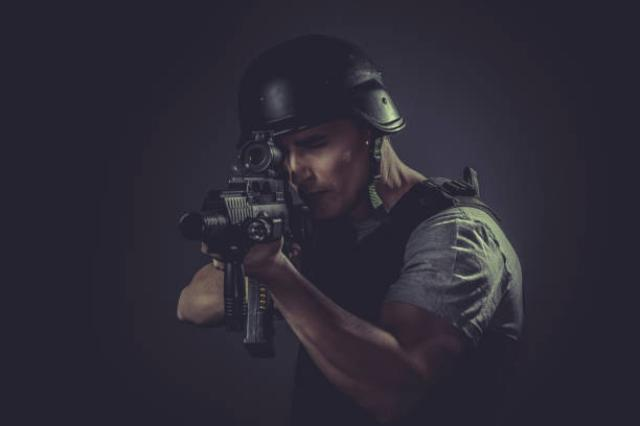other: (220, 41, 498, 399)
